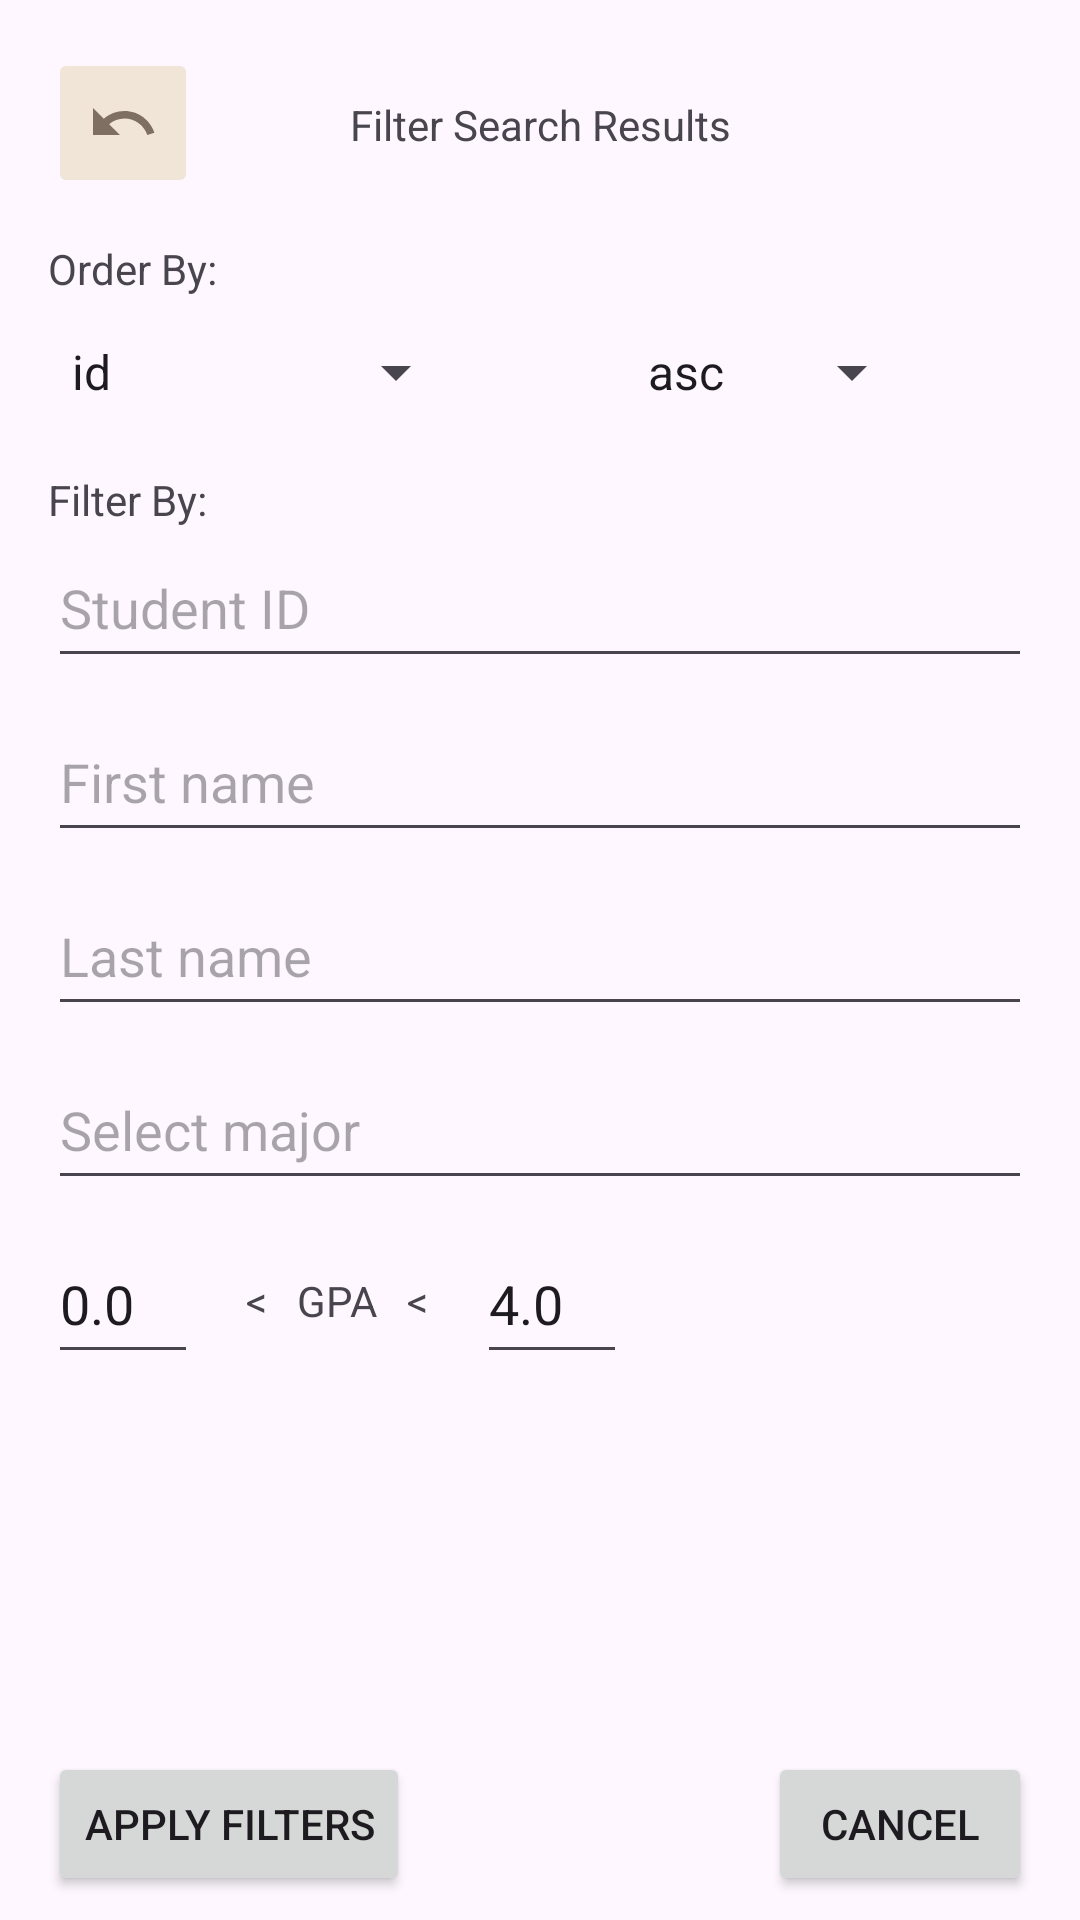

Icon bounding boxes for this 1080×1920 phone screenshot, format (x1, y1, x2, y2):
undo: (60, 66, 186, 180)
